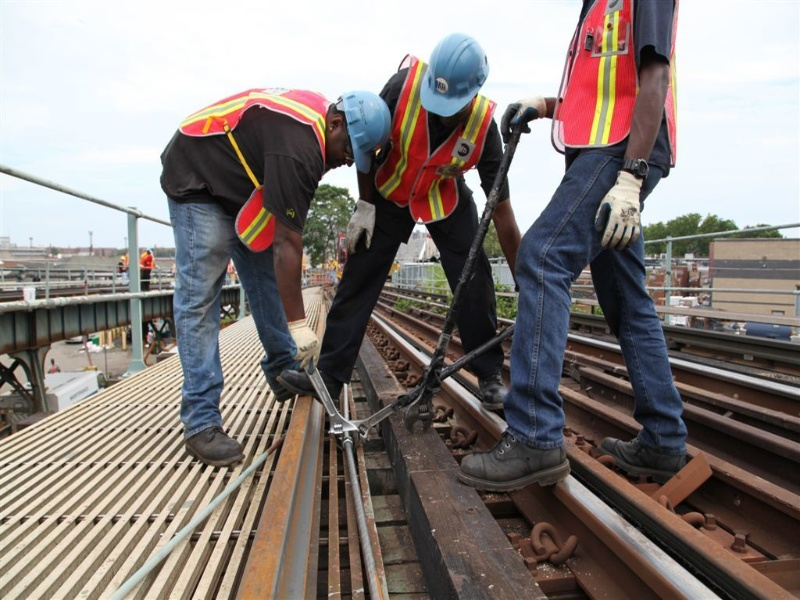Baret: (422, 33, 491, 114), (338, 91, 392, 171)
